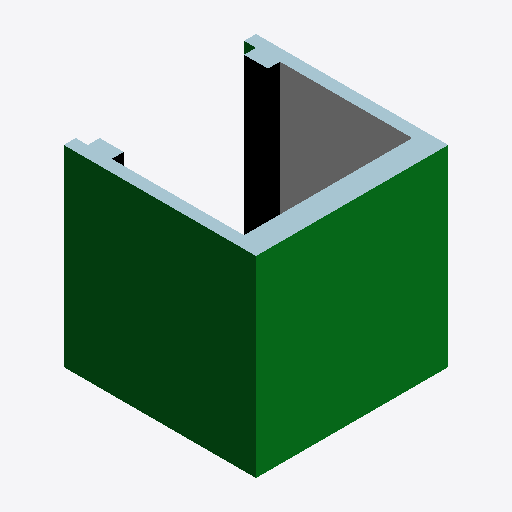
Isometric view (azimuth 45°, elevation 35.3°) of a Minecraft model made of 7 cuboids, textured from the same repository.
Parts seen in each view (by area): element 5, element 7, element 6, element 1, element 4.
Boxes of the visible parts, <box> form: element 5: <box>64,138,267,463</box>; element 7: <box>245,138,435,456</box>; element 6: <box>244,34,447,359</box>; element 1: <box>244,48,279,234</box>; element 4: <box>64,354,447,477</box>.
Size of the model in its own units: 16 by 16 by 16.